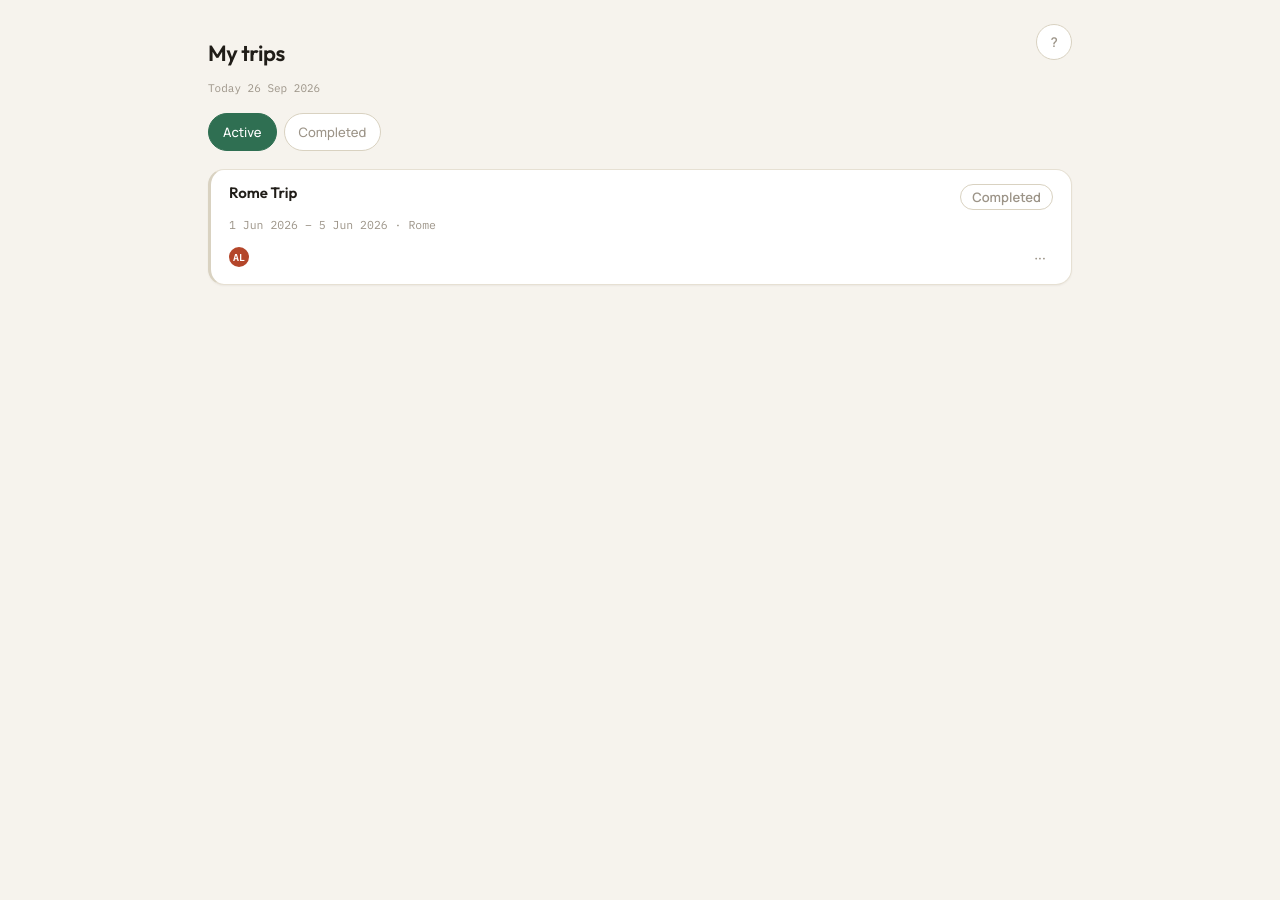
TripListScreen — Duplicate trip (guest/local persistence) › creates a new, independently-persisted trip and opens it
Check: the text "Rome Trip" is shown, box [229, 184, 297, 202]
Click the button named "More" at coordinates (1040, 258), box [1027, 244, 1053, 270]
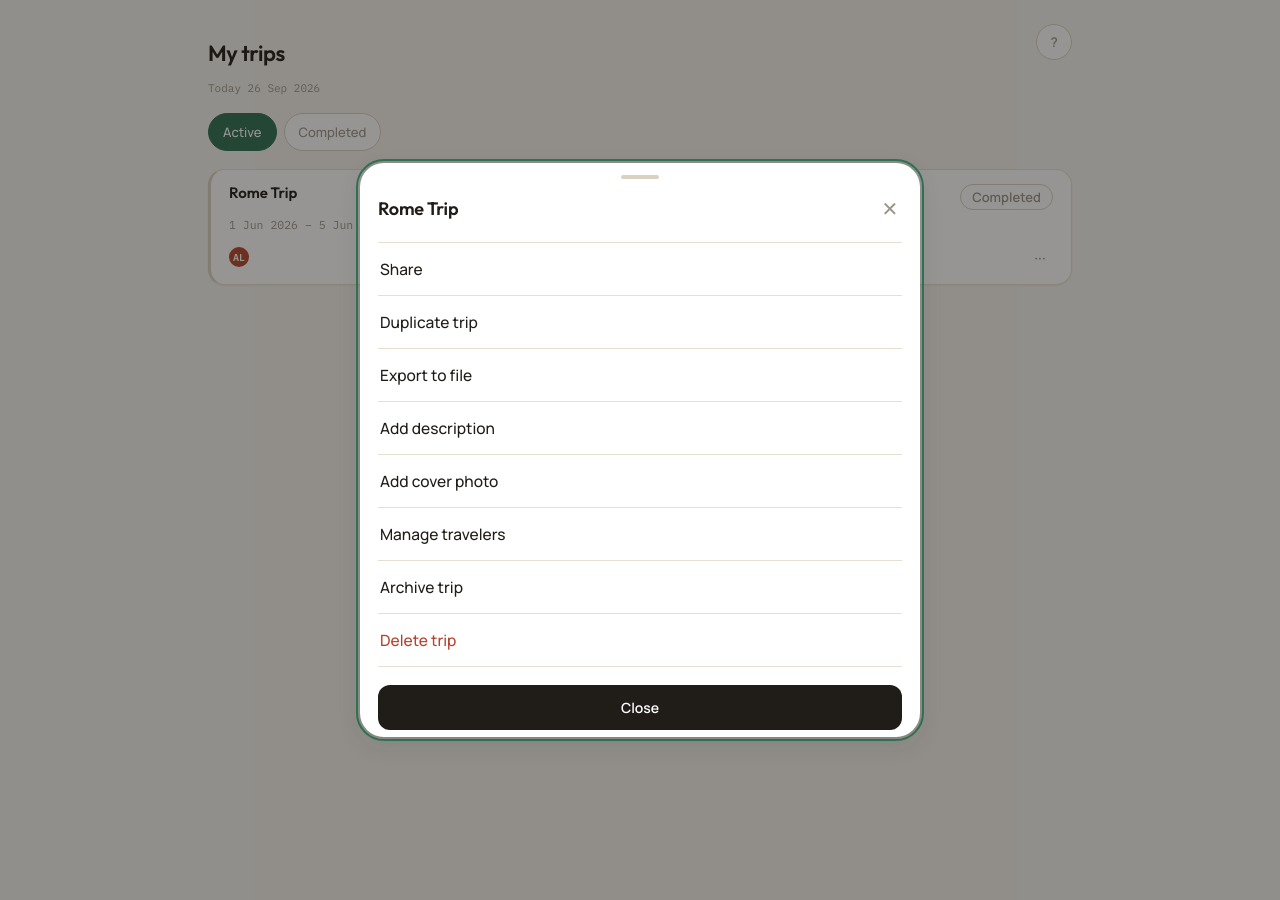
Check: the button "Duplicate trip" is shown
Click the button "Duplicate trip" at coordinates (429, 322), box [378, 296, 902, 349]
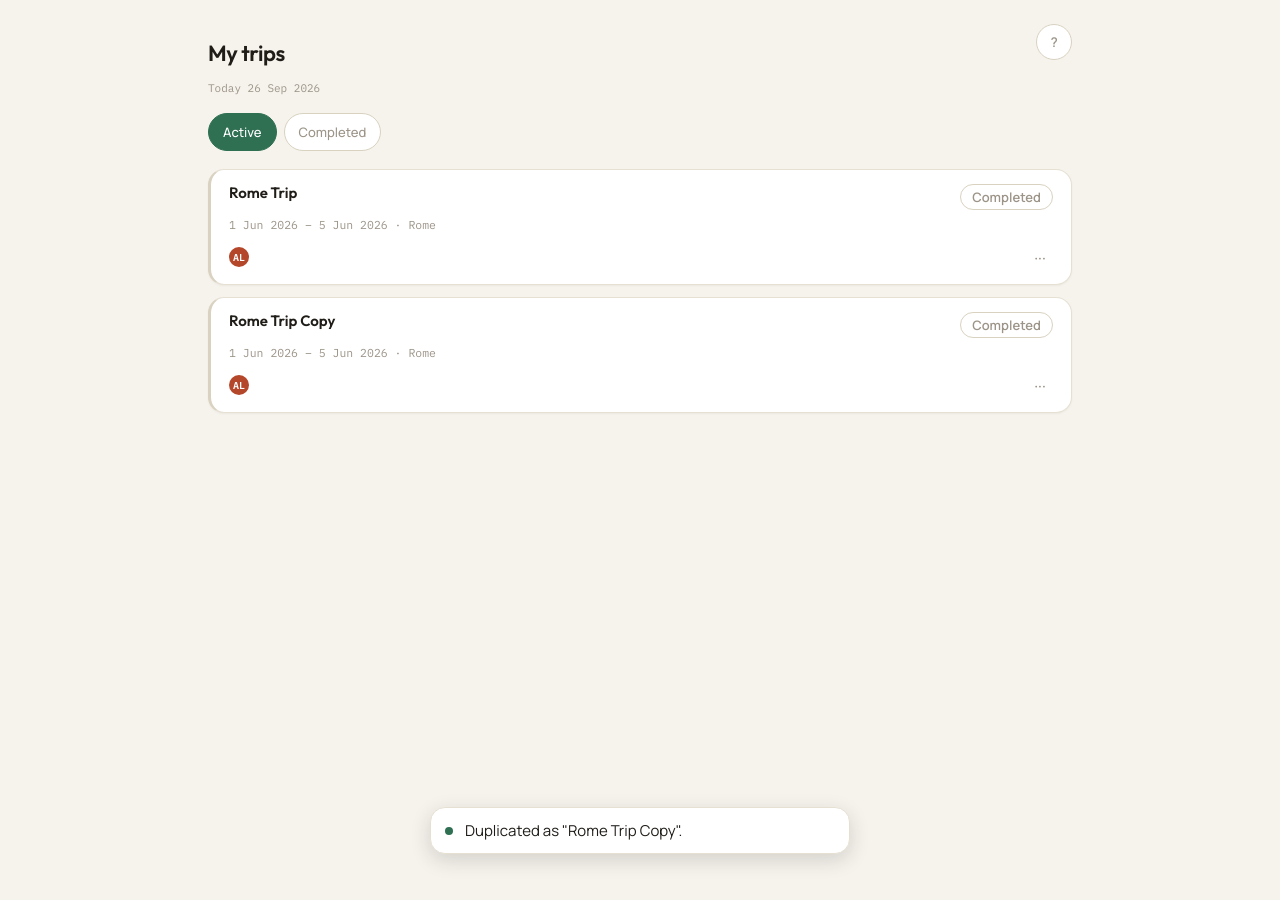
Check: the text "Rome Trip Copy" is shown, box [229, 312, 335, 330]
